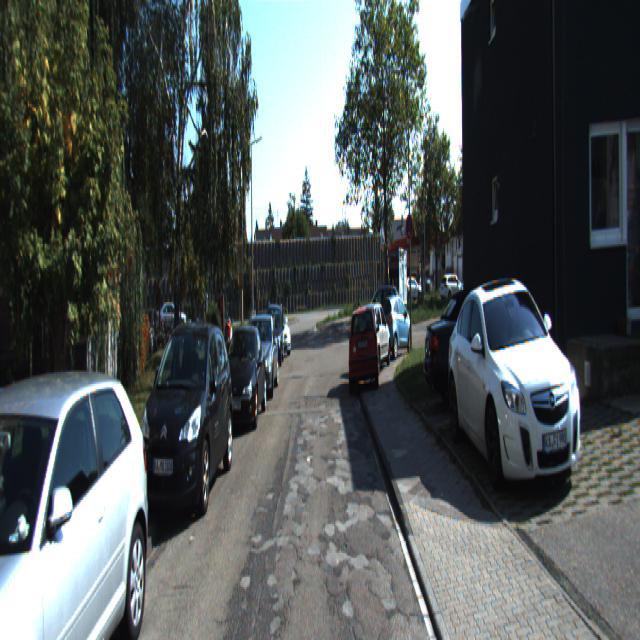Car: (0, 366, 157, 638), (446, 269, 594, 501), (134, 319, 235, 531), (425, 276, 555, 414), (218, 322, 267, 440), (242, 312, 280, 401), (347, 300, 380, 400), (356, 302, 393, 379), (376, 294, 414, 364), (263, 300, 286, 369), (263, 303, 291, 356), (154, 301, 187, 337)
